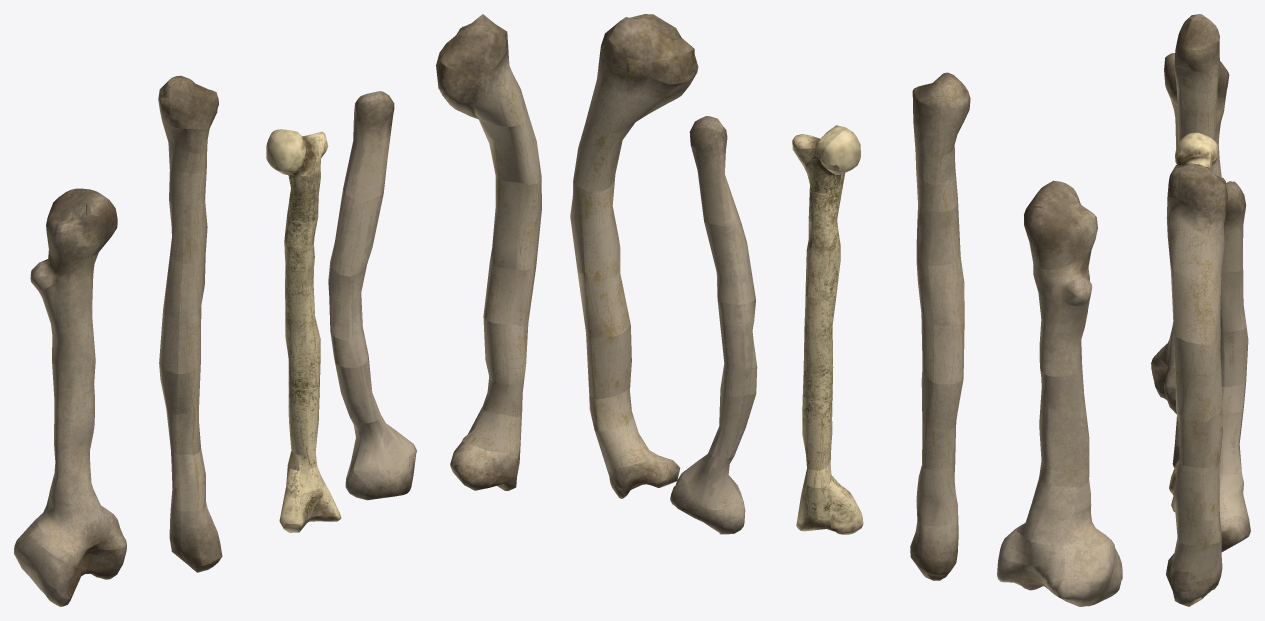
Rendered from bones-physics.glb.
The picture shows the model from 3 angles, left to right: view 1: azimuth 30°, elevation 25°; view 2: azimuth 150°, elevation 25°; view 3: azimuth 270°, elevation 25°; orthographic projection. The views are drawn at different scales.
Visible parts, largest first — view 1: polySurface4, polySurface3, polySurface2, polySurface5, polySurface1; view 2: polySurface3, polySurface4, polySurface2, polySurface5, polySurface1; view 3: polySurface4, polySurface5, polySurface2, polySurface3, polySurface1.
Boxes of the visible parts, x1,y1,x2,y2 form: polySurface4: (436,14,541,490); polySurface3: (14,188,126,606); polySurface2: (158,75,222,572); polySurface5: (328,91,416,500); polySurface1: (266,129,341,532); polySurface3: (997,180,1122,606); polySurface4: (570,14,698,498); polySurface2: (910,72,970,580); polySurface5: (670,116,757,534); polySurface1: (792,125,863,534); polySurface4: (1166,163,1228,606); polySurface5: (1219,181,1250,551); polySurface2: (1172,14,1219,467); polySurface3: (1151,53,1229,414); polySurface1: (1169,132,1218,511).
Bounding box in the file's own units: 68.32 × 62.03 × 12.43.
5 materials, 5 textured.
